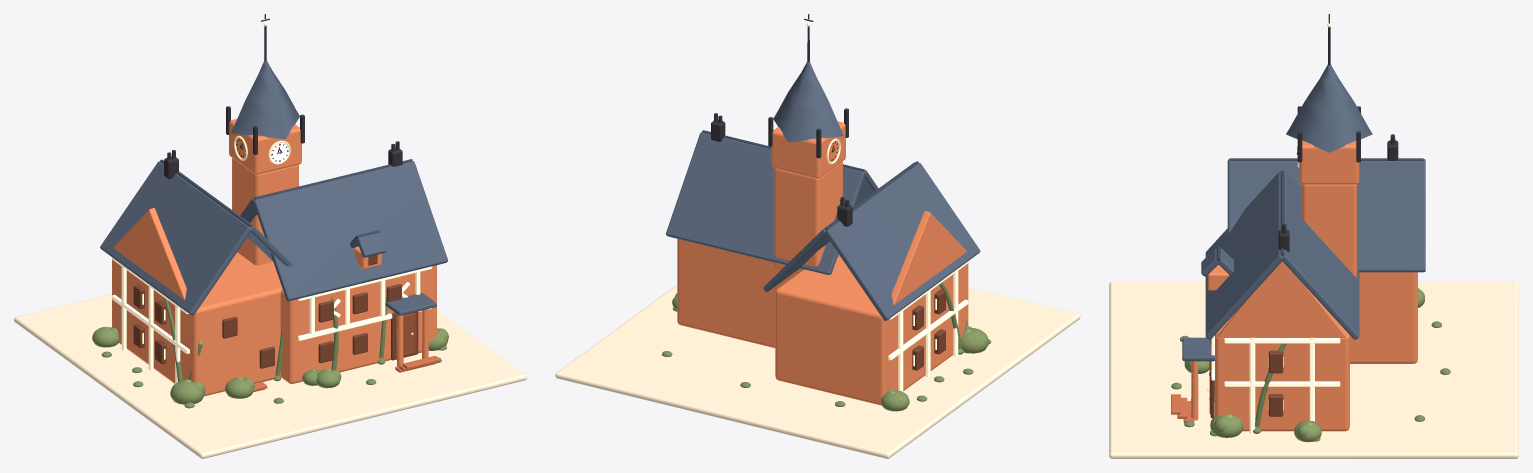
Rendered from town_hall.glb.
3 views of the same model, side by side, from view 1: azimuth 30°, elevation 25°; view 2: azimuth 150°, elevation 25°; view 3: azimuth 270°, elevation 25° (orthographic). The views are drawn at different scales.
Parts seen in each view (by area): view 1: TownHallDiorama; view 2: TownHallDiorama; view 3: TownHallDiorama.
Part boxes in pixels (bbox=[...]): TownHallDiorama: bbox=[14, 14, 526, 458]; TownHallDiorama: bbox=[555, 14, 1080, 458]; TownHallDiorama: bbox=[1109, 14, 1518, 458].
Size of the model in its own units: 9.6 by 9.32 by 9.6.
